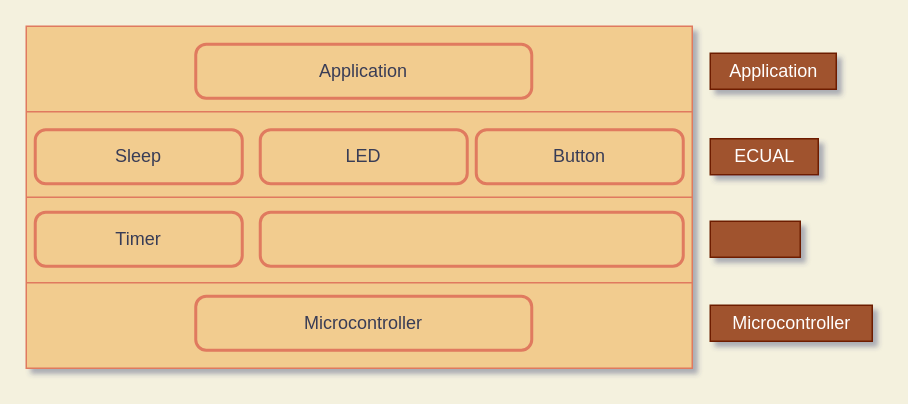
The diagram is 908 pixels wide and 404 high, and some of its shapes have lost their labels. Each missing label, with the centre of its shape:
"DIO" goes at pixel 471 238.
"MCAL" goes at pixel 754 238.
